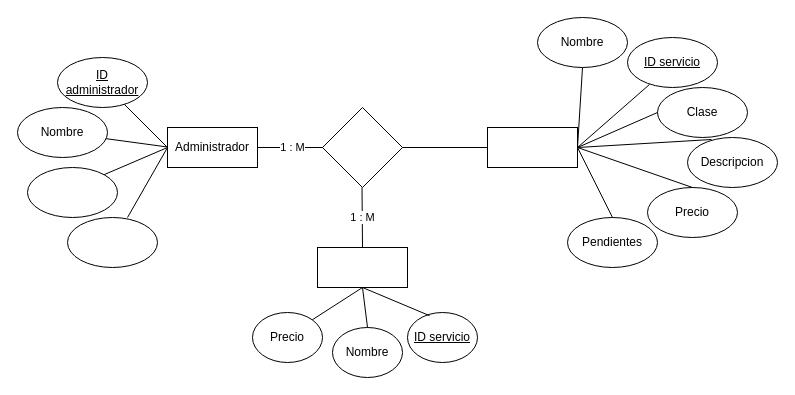
Some shapes in this 795 by 395 pixel diagram are drawn without their labels. Here are the shapes that lost their labels. From the top down, the box of each, then its label:
(322, 106, 402, 188): EDITA
(486, 126, 578, 168): Servicios
(26, 166, 118, 218): Apellido
(66, 216, 158, 268): Telefono
(316, 246, 408, 288): Producto
